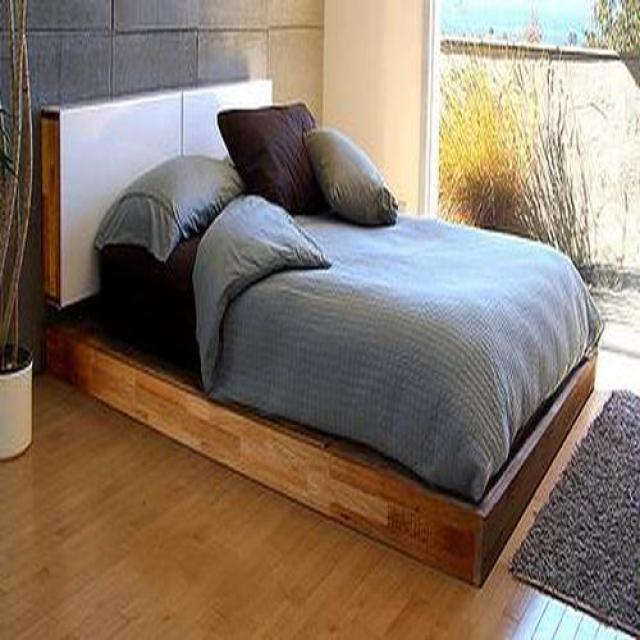bed: (37, 79, 603, 589)
